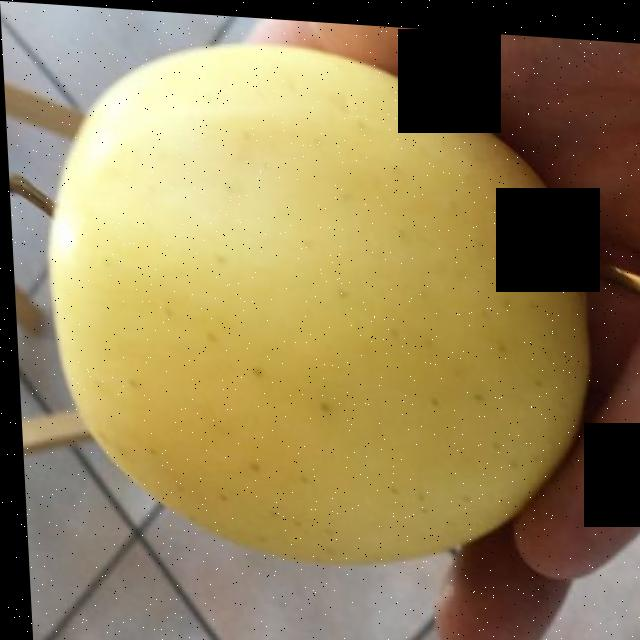apple: (60, 52, 576, 554)
